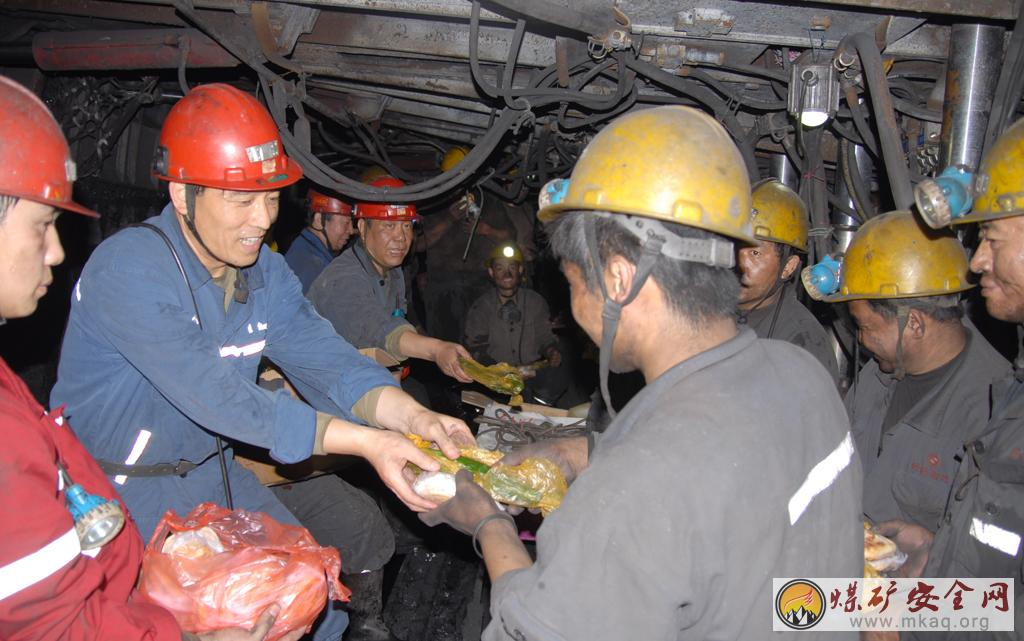helmet: (142, 76, 308, 272)
